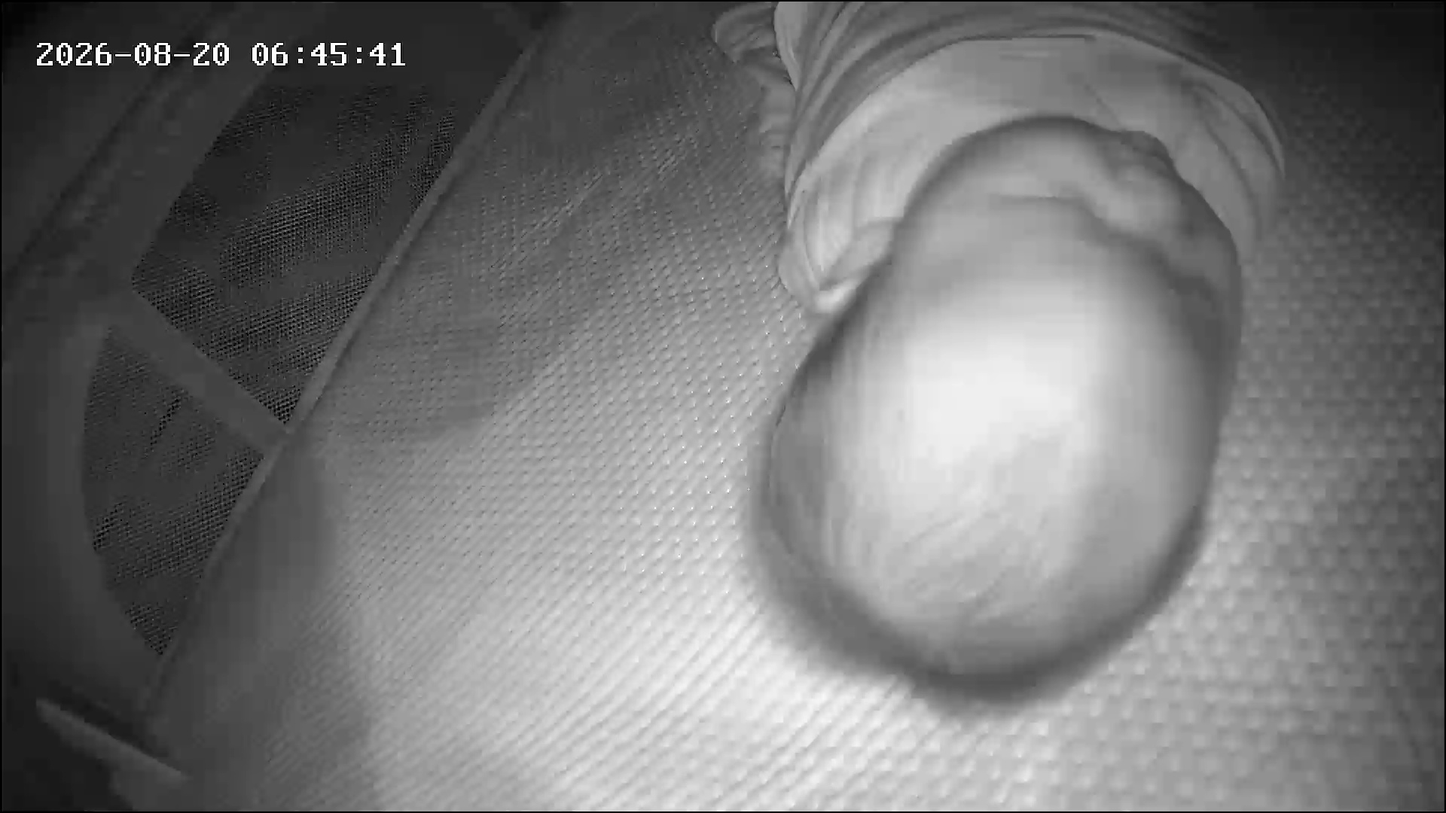baby: (730, 2, 1283, 727)
baby_face: (760, 109, 1248, 703)
